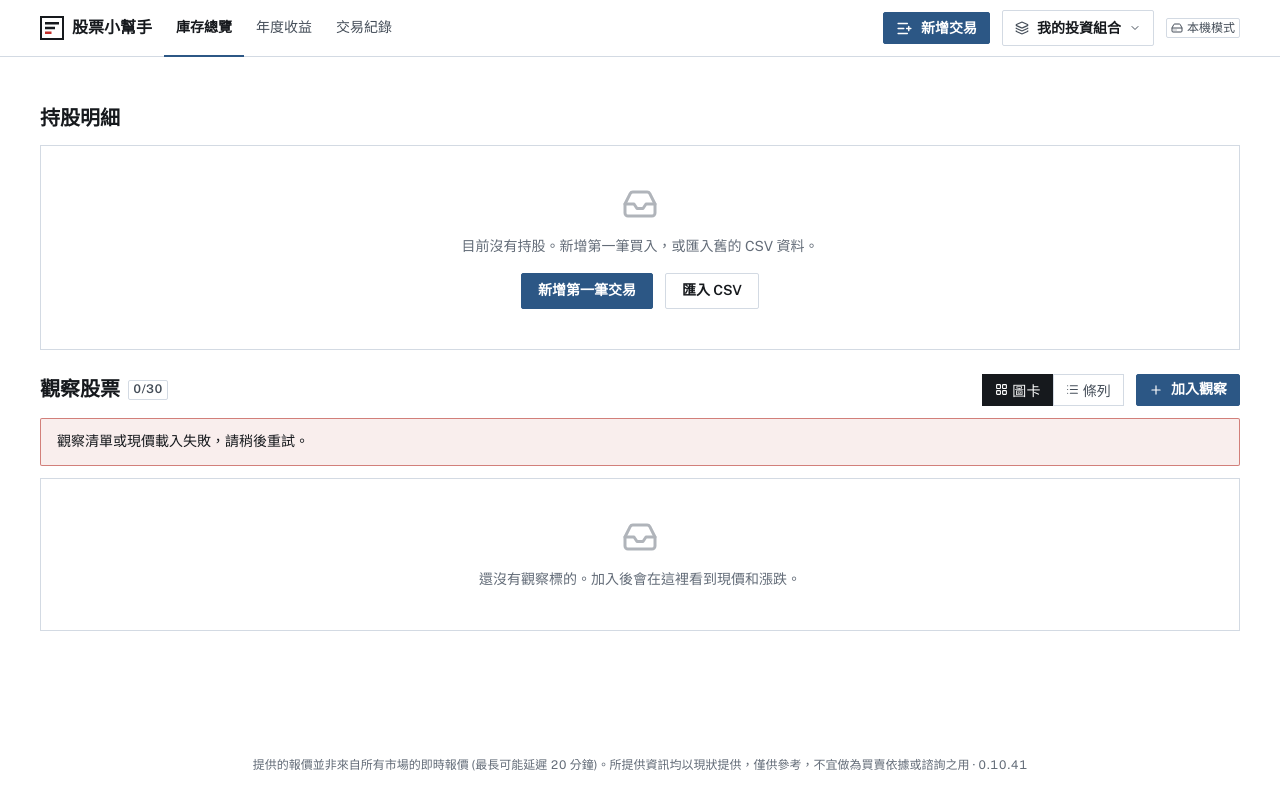
TransactionForm field feedback › names each missing field, focuses the first one, and clears an error once the field is edited
Expected: the button "本機模式" is shown, top-left (1166, 18), bottom-right (1240, 38)
Click the button "交易紀錄" at (364, 28), box top-left (324, 0), bottom-right (404, 57)
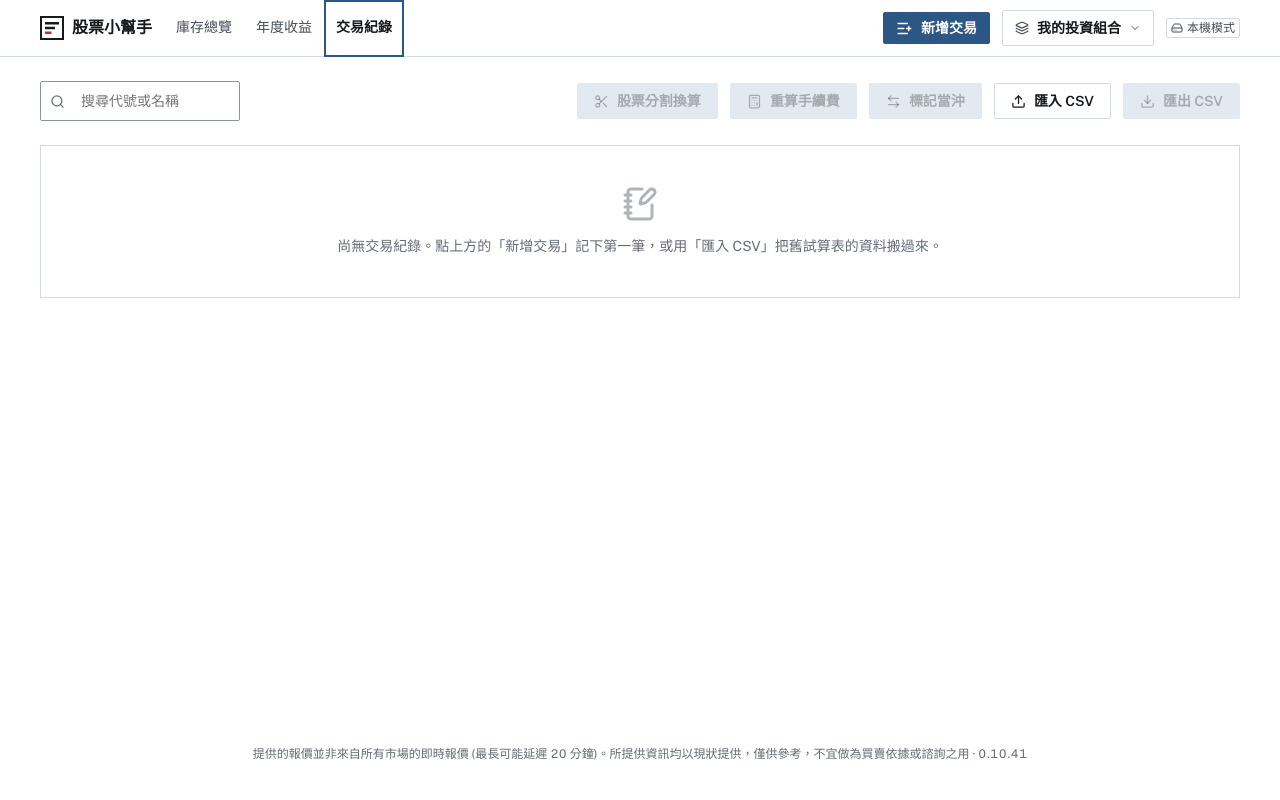
Click the button "新增交易" at (936, 28), box top-left (883, 12), bottom-right (990, 44)
(page scrolled)
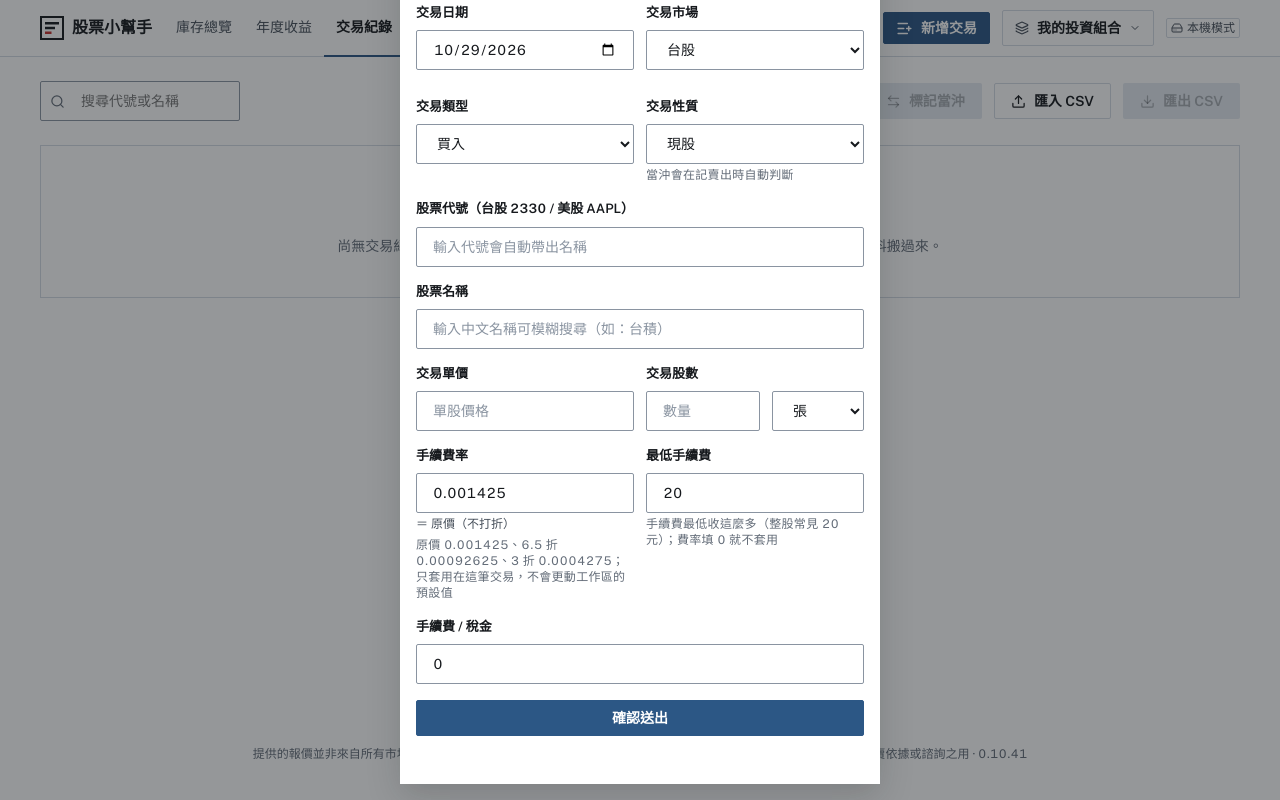
Click the button "確認送出" at (640, 718), box top-left (416, 700), bottom-right (864, 736)
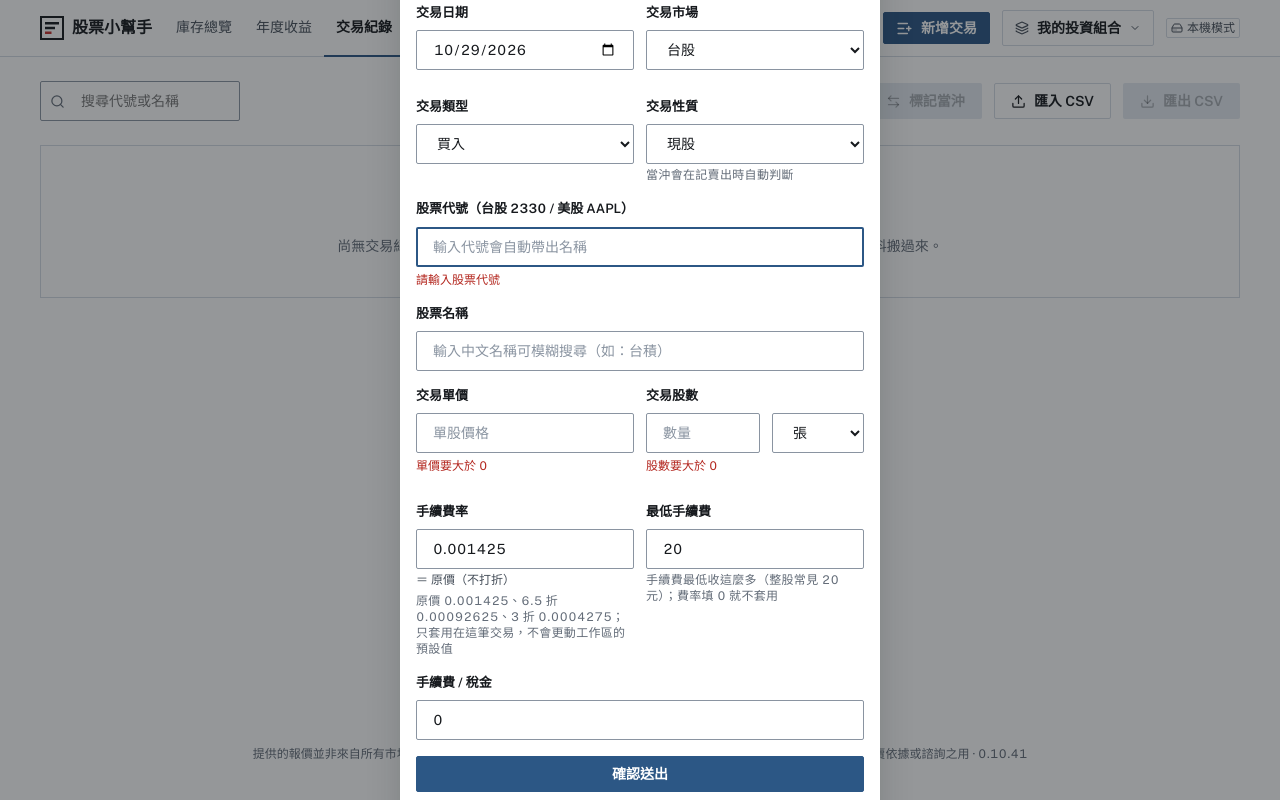
Now the text "請輸入股票代號" is shown, box top-left (416, 272), bottom-right (500, 286)
Now the text "單價要大於 0" is shown, box top-left (416, 459), bottom-right (487, 473)
Now the text "股數要大於 0" is shown, box top-left (646, 459), bottom-right (717, 473)
Type "500" into the number field labelled "交易單價" at (525, 433), box top-left (416, 413), bottom-right (634, 453)
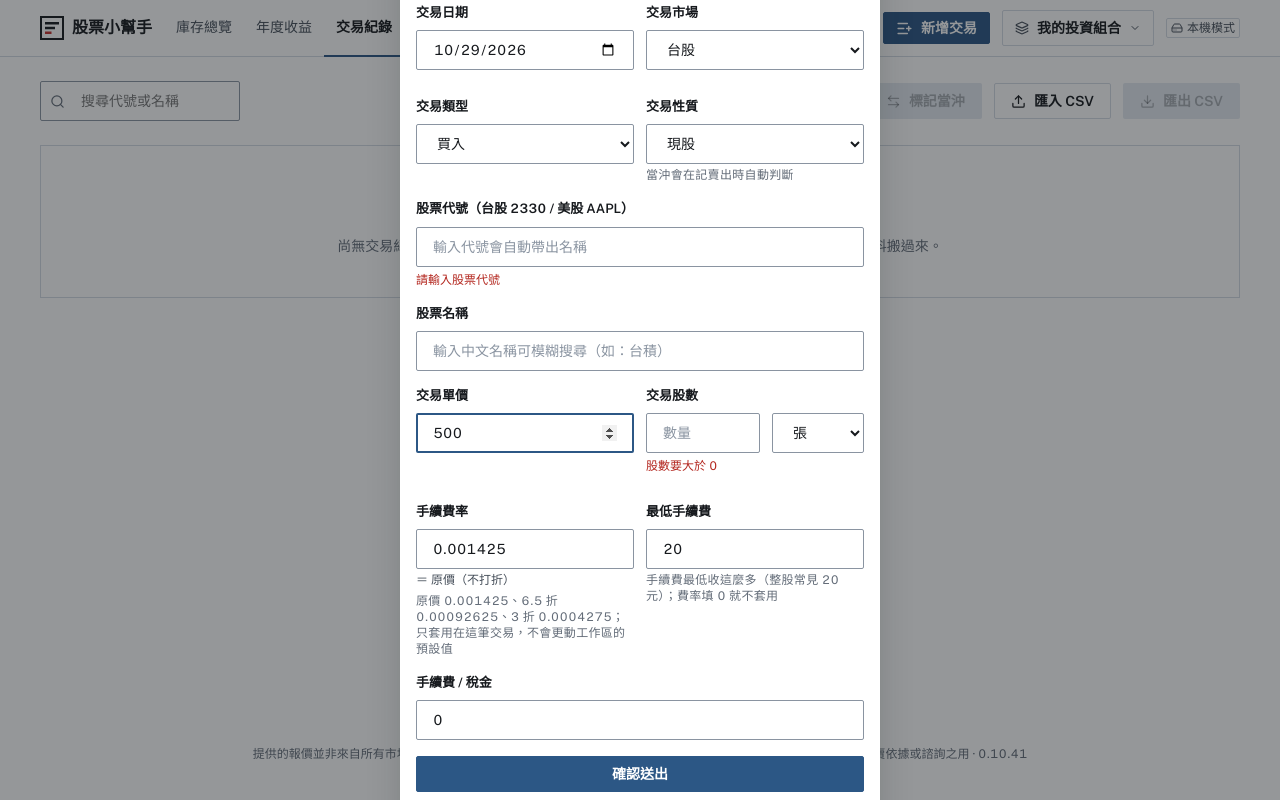
Now the text "股數要大於 0" is shown, box top-left (646, 459), bottom-right (717, 473)
Now the text "單價要大於 0" is gone
